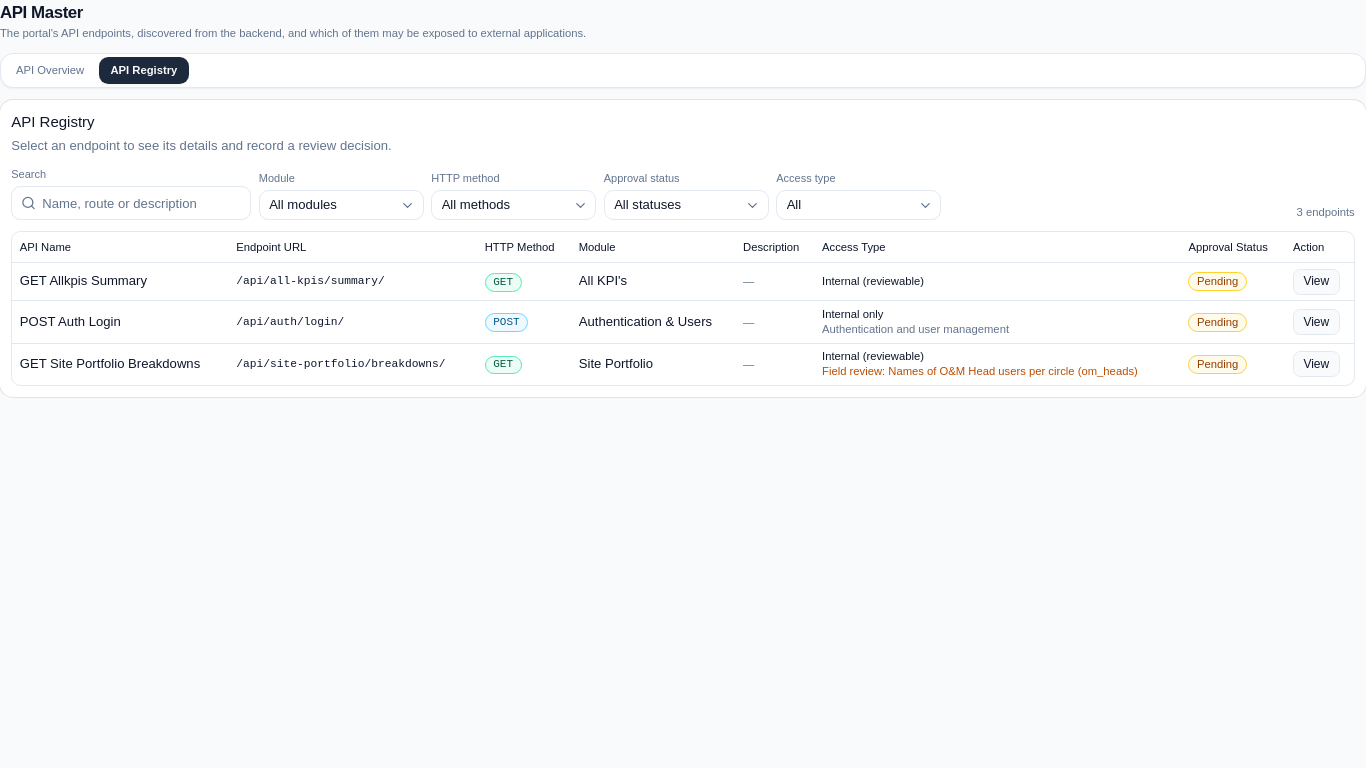
Test: API Master › records an approval with a reason and shows the saved status
Click the button with aria-label "View GET /api/all-kpis/summary/" at (1316, 282), box [1293,269,1340,295]
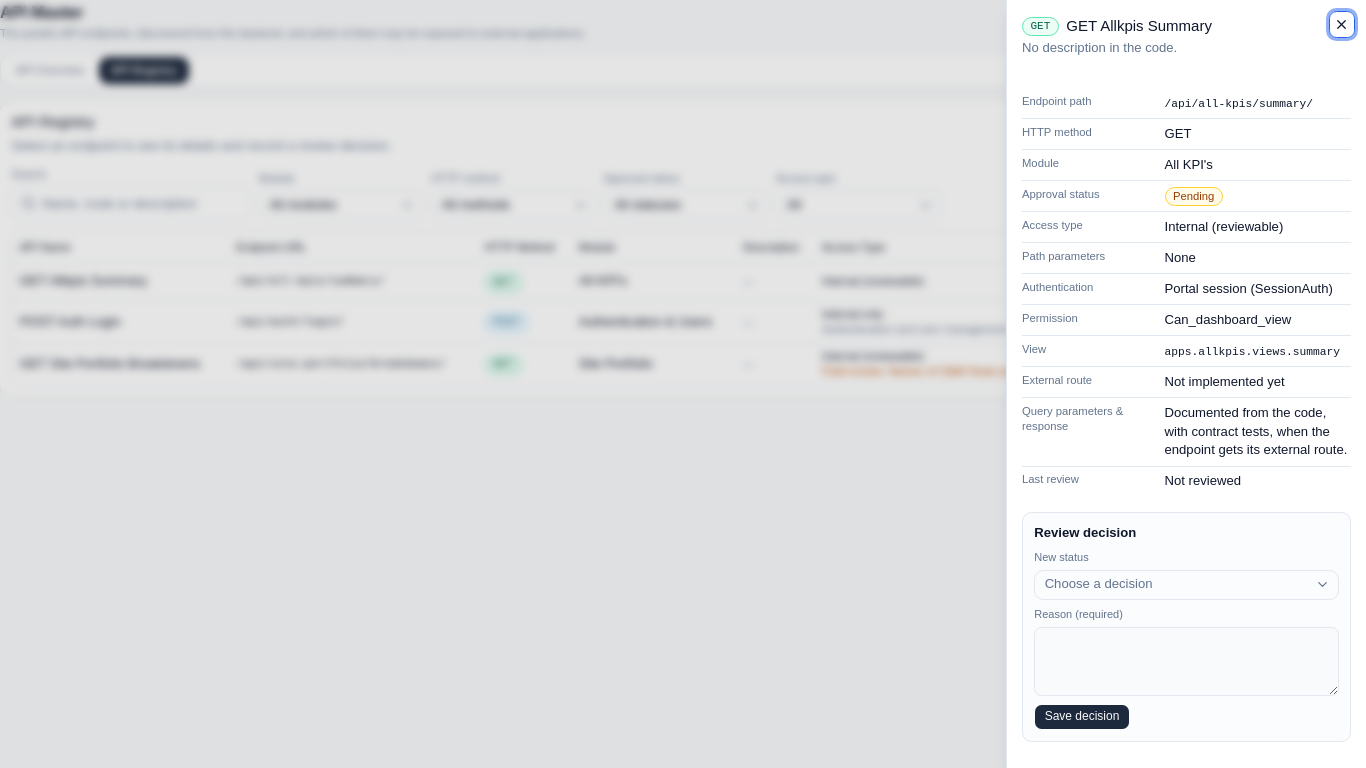
Click the dropdown at (1099, 584), box [1034,570,1339,600]
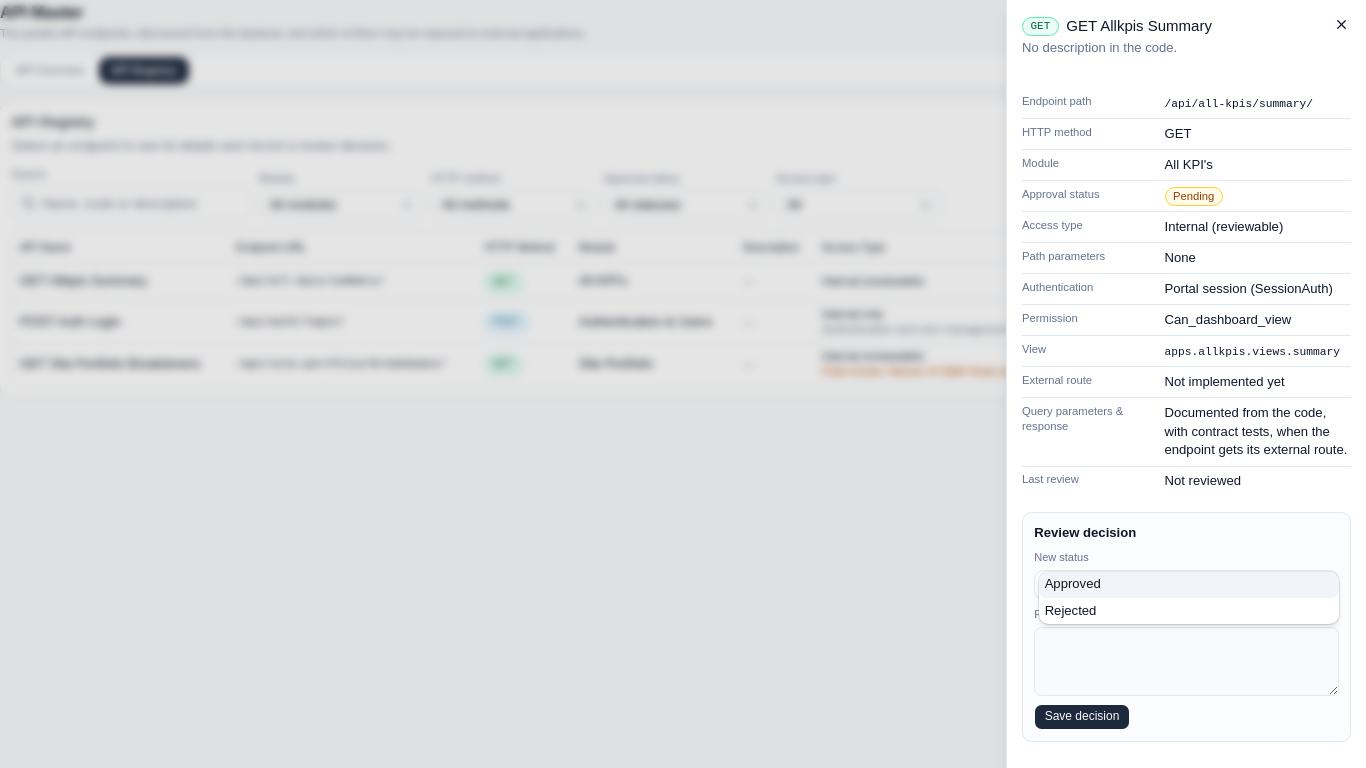
Click the option "Approved" at (1073, 584), box [1039,572,1339,598]
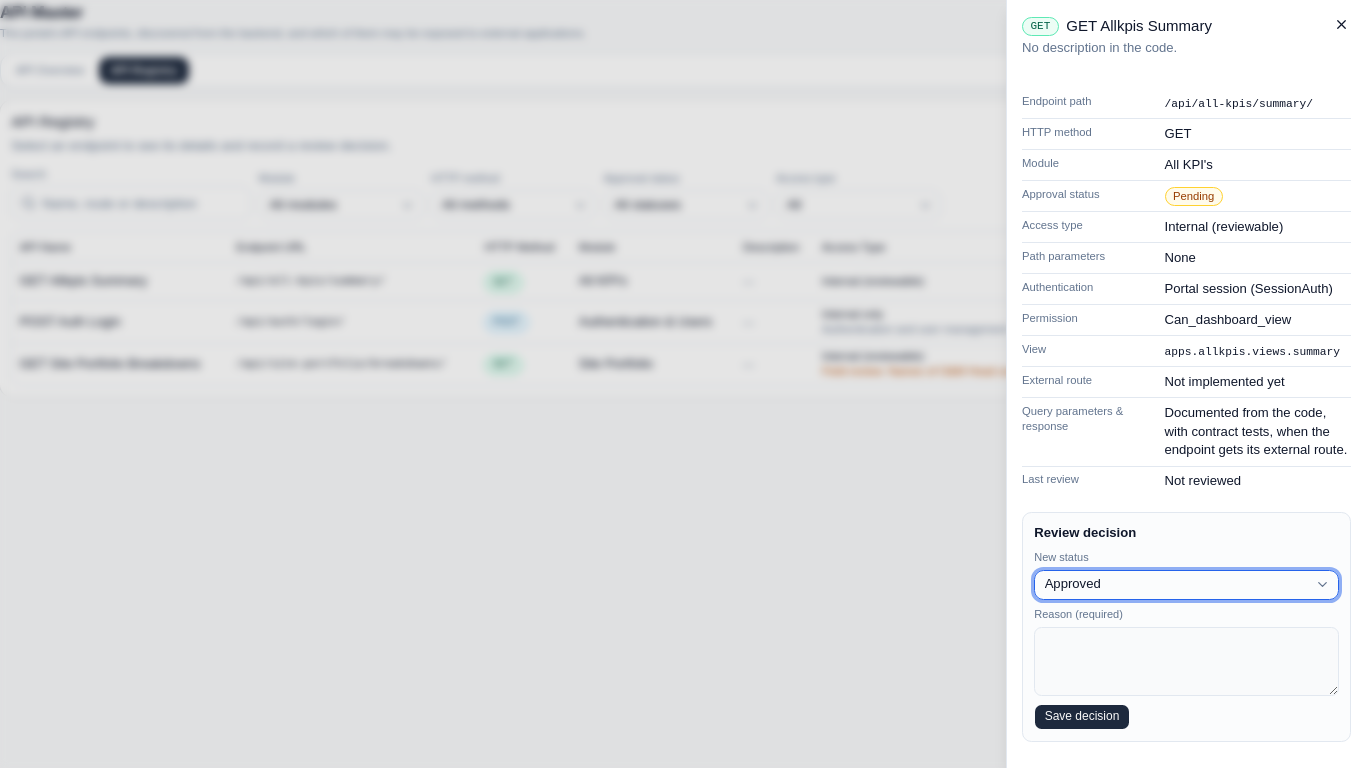
Type "Aggregated KPIs, scope-limited" into the text box labelled "Reason (required)" at (1187, 661), box [1034,627,1339,696]
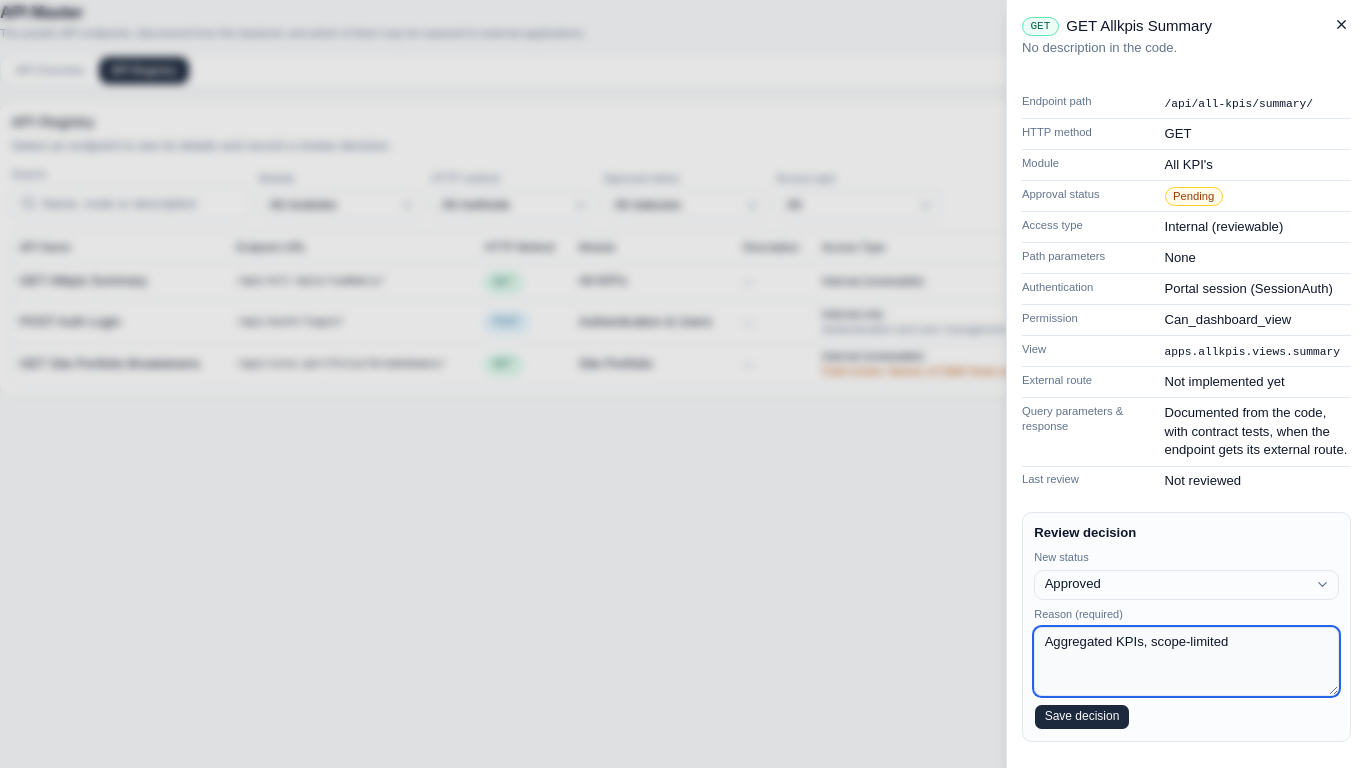
Click the button "Save decision" at (1082, 717), box [1034,704,1130,730]
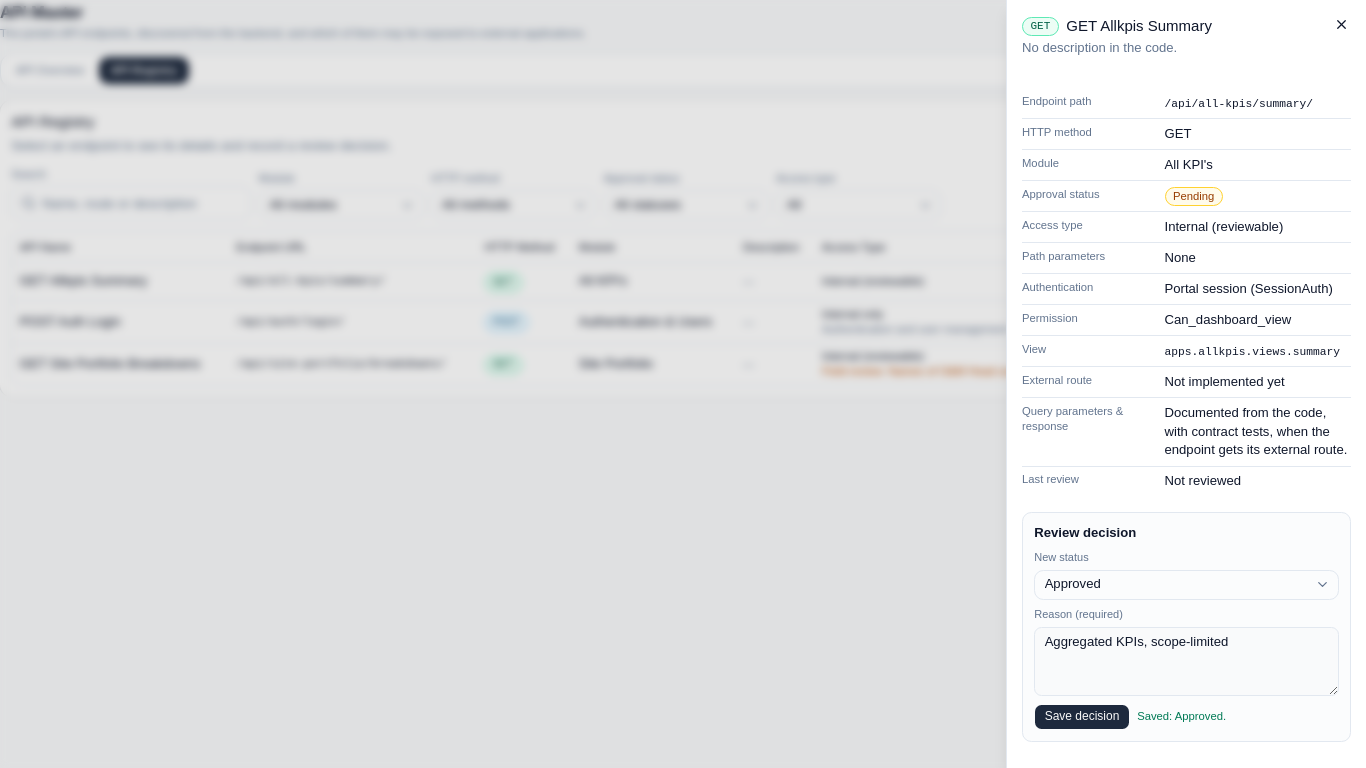
Expected: the message reads "Saved: Approved.", [1137,710,1226,722]
